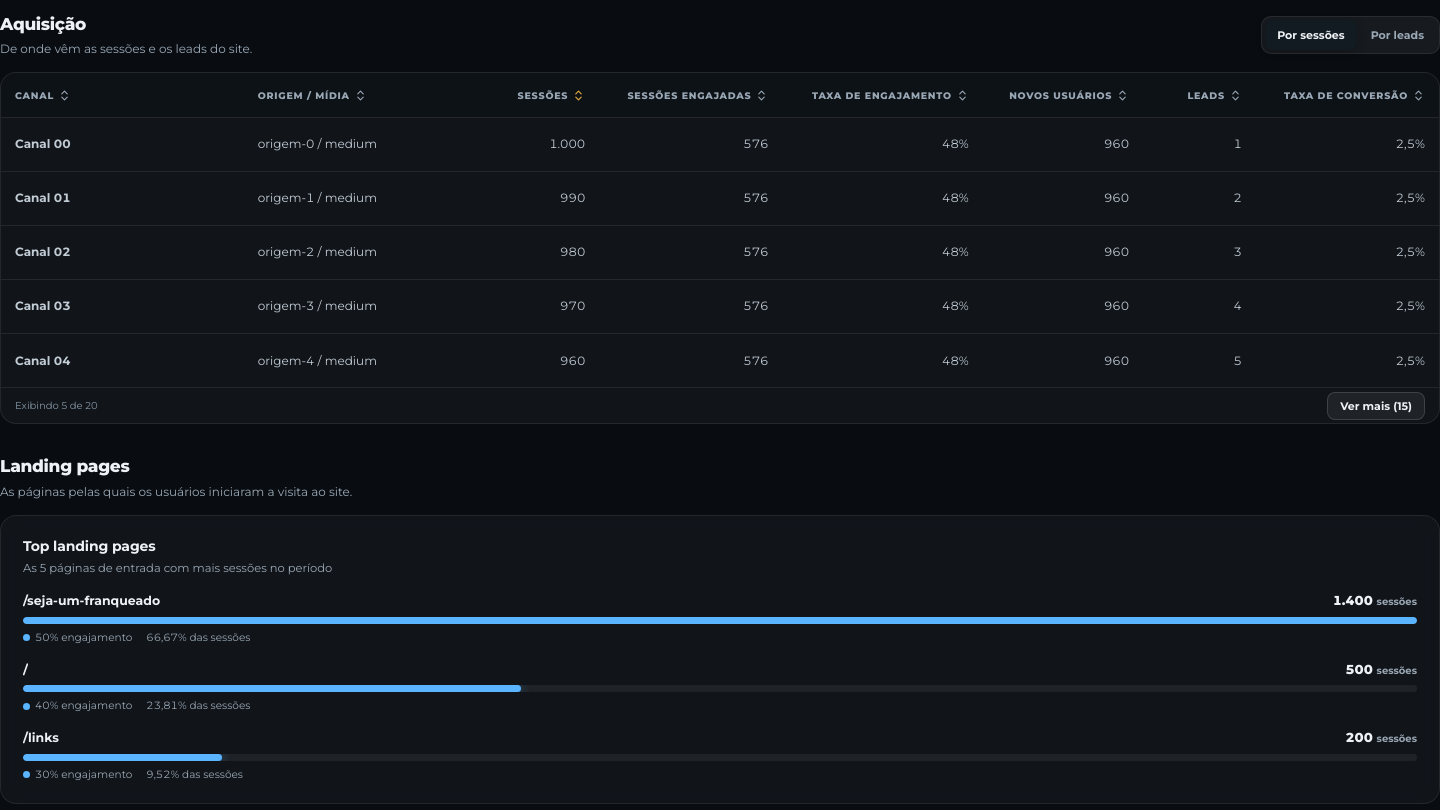
Scenario: aba Site: Top 5 e expansão das tabelas › trocar a ordenação recolhe a tabela de volta para 5
(page scrolled)
Click the button "Ver mais (15)": (1376, 406) [1327, 392, 1425, 420]
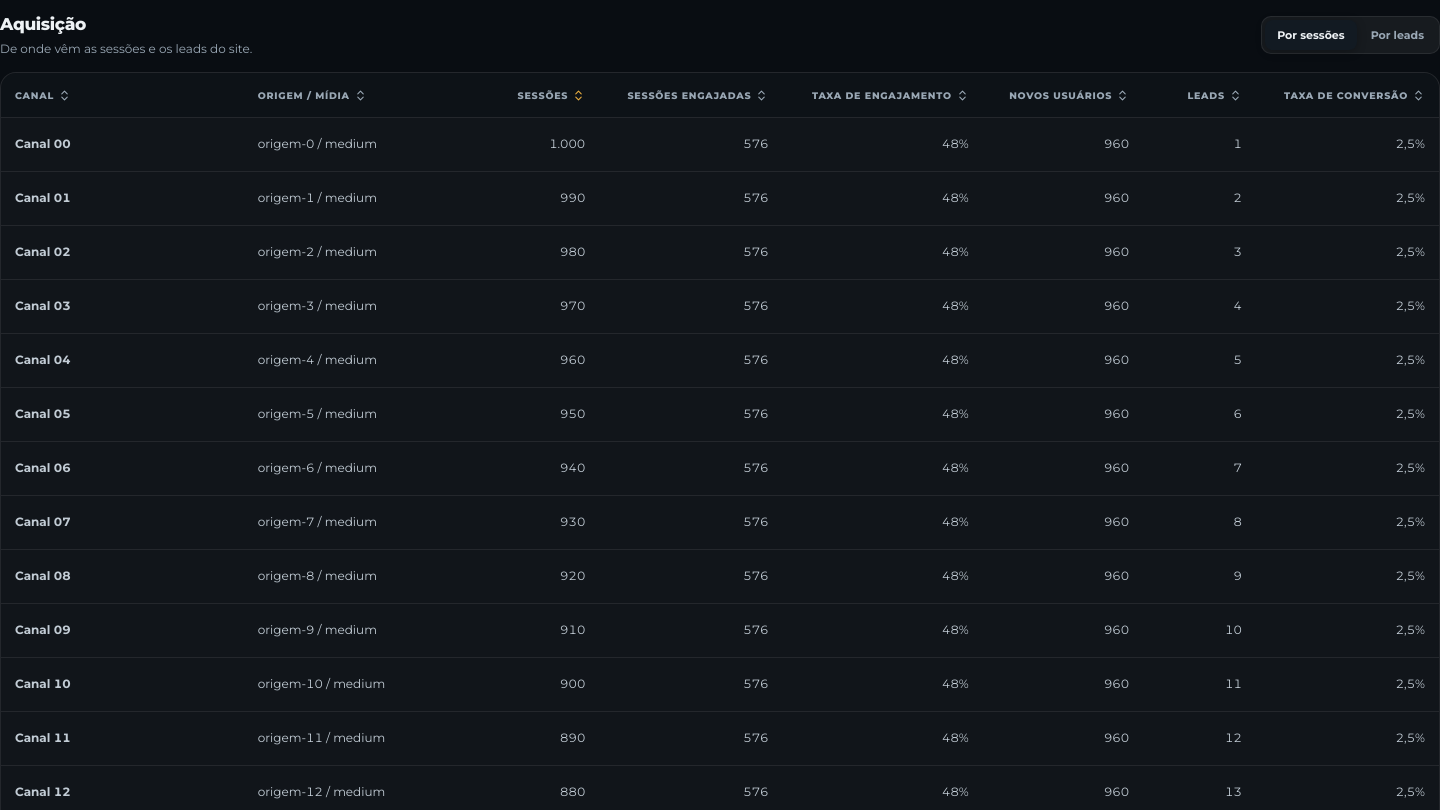
Click the tab "Por leads": (1397, 35) [1359, 20, 1436, 50]
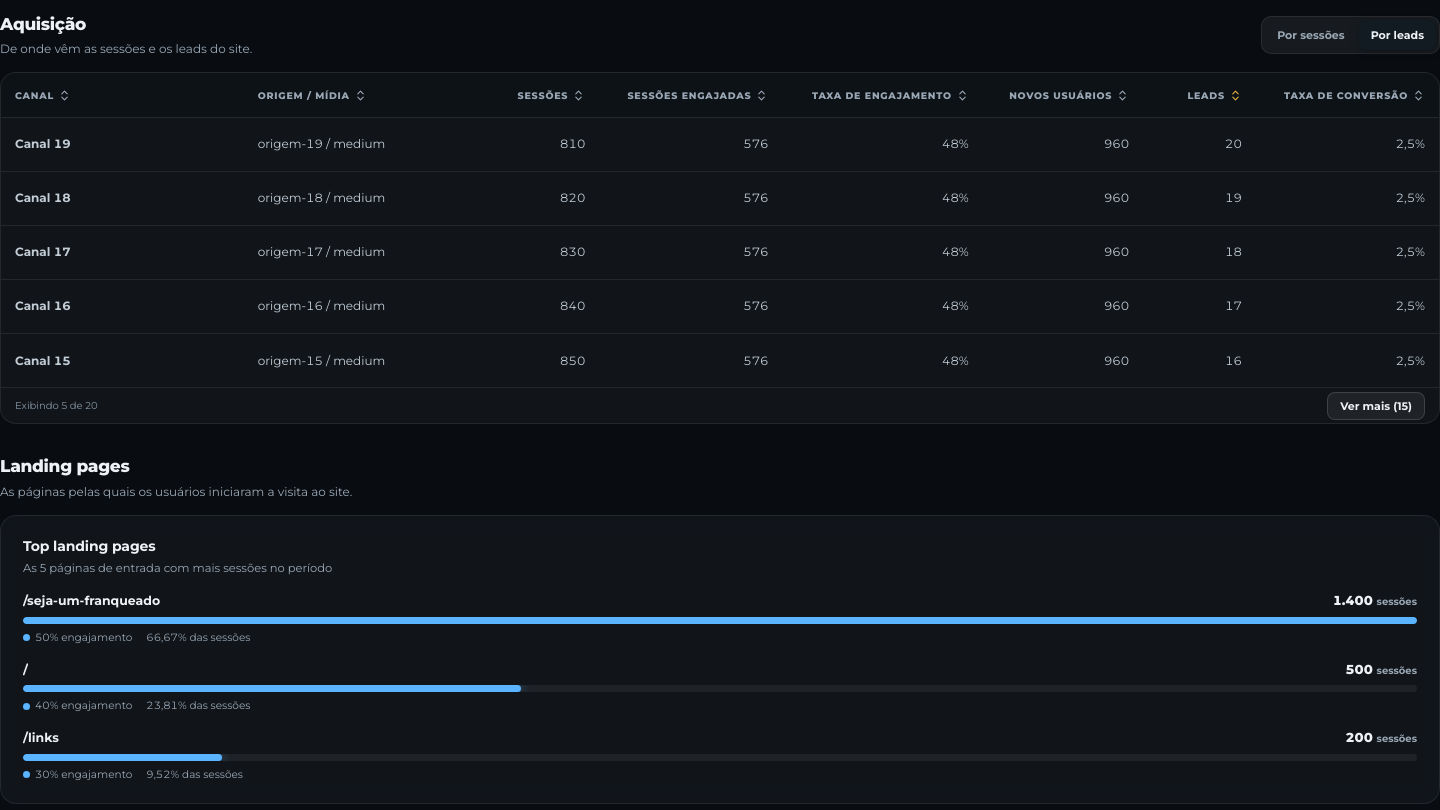
Check: the text with class "table-count" reads "Exibindo 5 de 20", box [15, 399, 98, 412]
